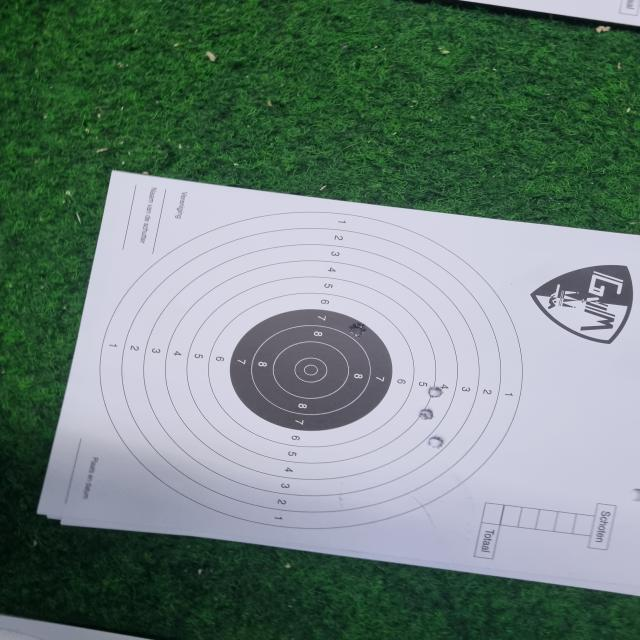5: (428, 436, 443, 449)
6: (419, 408, 434, 421), (428, 386, 442, 398)
8: (350, 323, 366, 337)
Black Contour: (228, 310, 394, 430)
Target: (100, 213, 524, 530)
